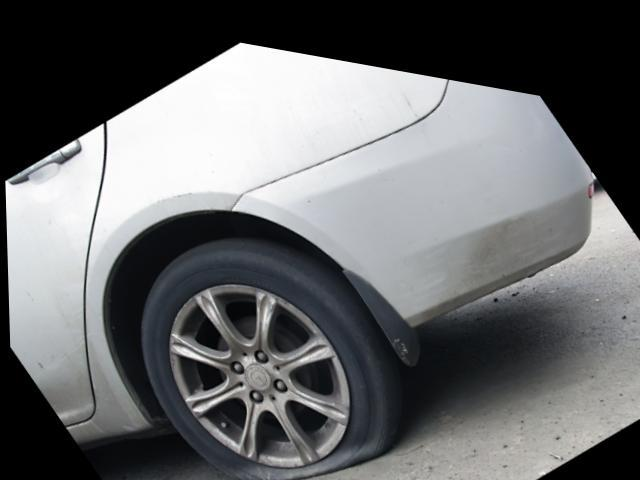tire flat: (136, 229, 399, 476)
